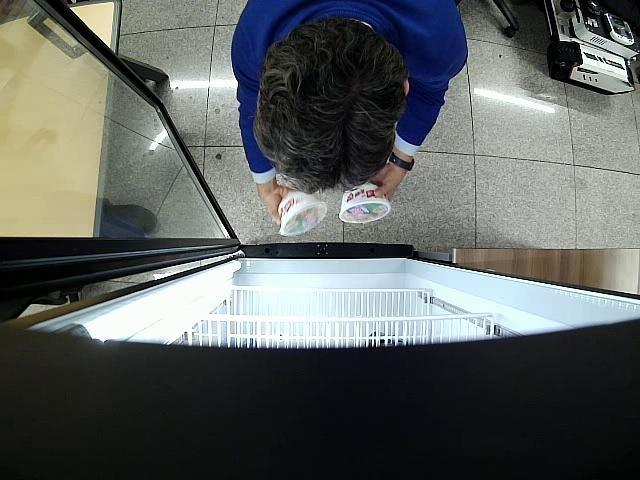09_yukGaeJang: (338, 184, 391, 224), (278, 194, 326, 236)
